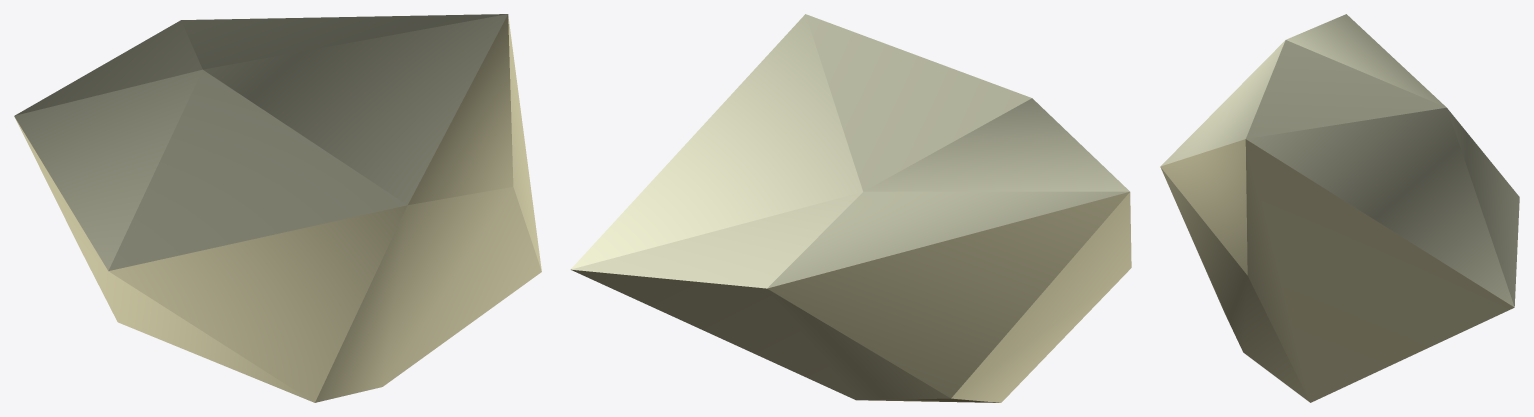
3 views of the same model, side by side, from view 1: azimuth 30°, elevation 25°; view 2: azimuth 150°, elevation 25°; view 3: azimuth 270°, elevation 25° (orthographic). The views are drawn at different scales.
Parts seen in each view (by area): view 1: Object047; view 2: Object047; view 3: Object047.
Part boxes in pixels (left/top/right/bottom): Object047: left=14, top=14, right=541, bottom=402; Object047: left=570, top=14, right=1131, bottom=402; Object047: left=1160, top=14, right=1519, bottom=402.
Bounding box in the file's own units: 28.7 × 18.67 × 22.67.
